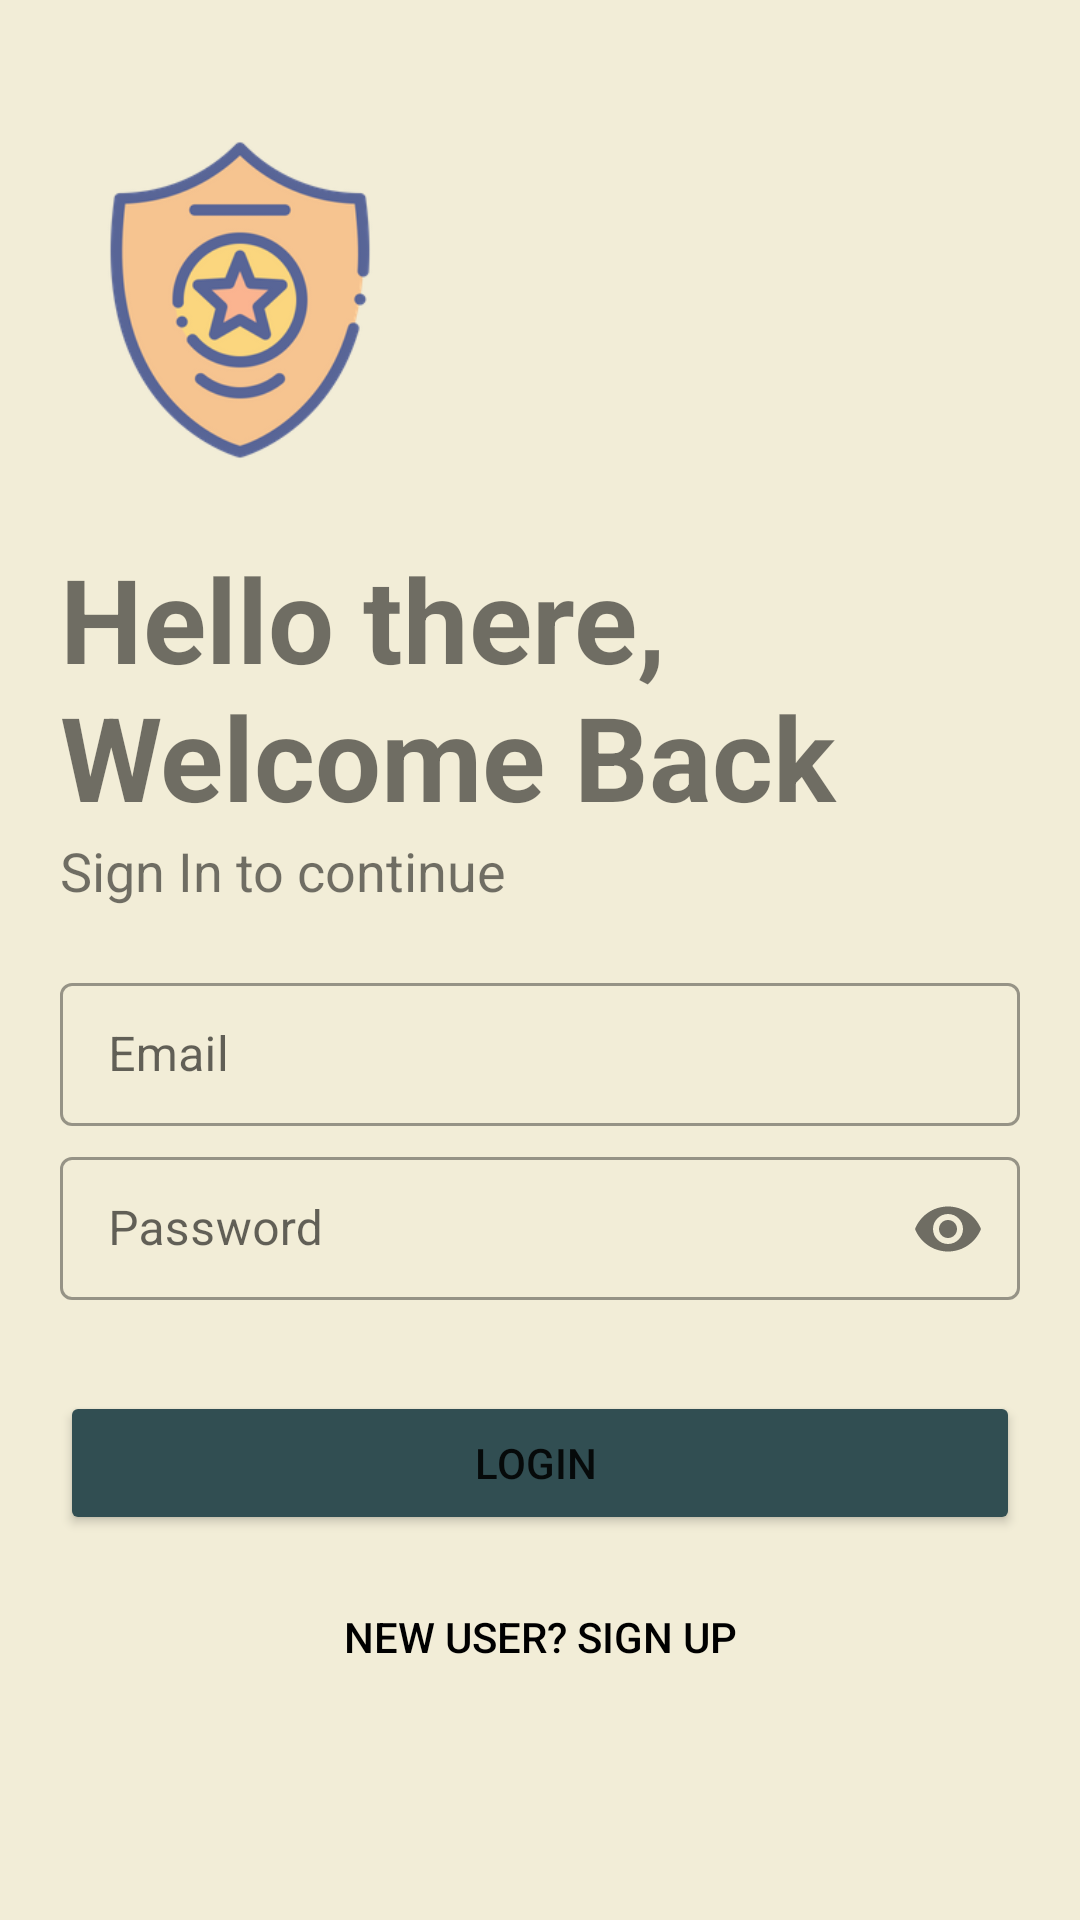

Icon bounding boxes for this 1080×1920 phone screenshot, format rect(x1, y1, x2, y2):
policebadge: rect(110, 142, 370, 458)
